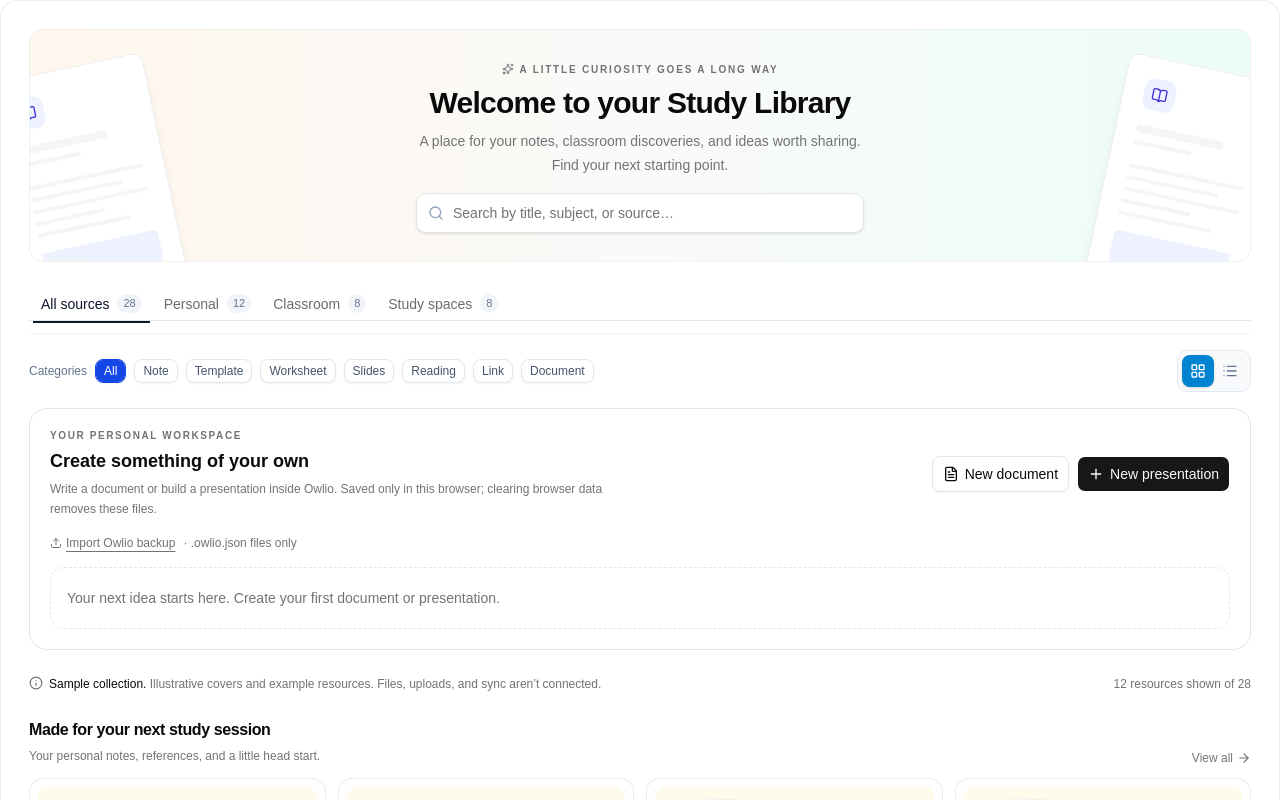
student Study Library › keeps the source colours on list rows
Click the button named "List view" at coordinates (1230, 370), box [1214, 354, 1246, 386]
(page scrolled)
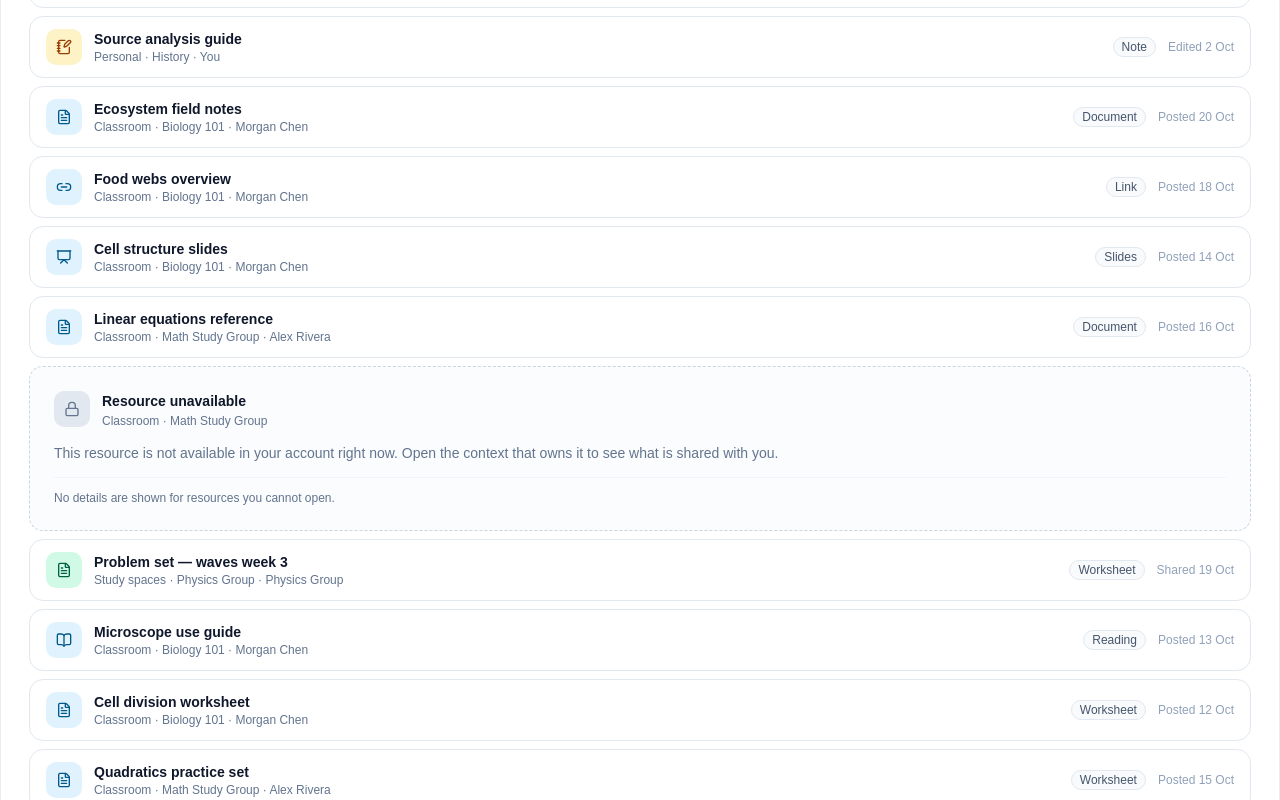
Expected: the heading "Resource unavailable" is shown, [102, 393, 246, 409]
